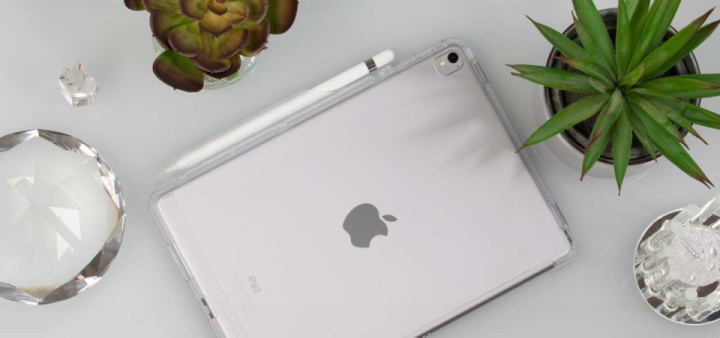apple: (321, 187, 418, 262)
